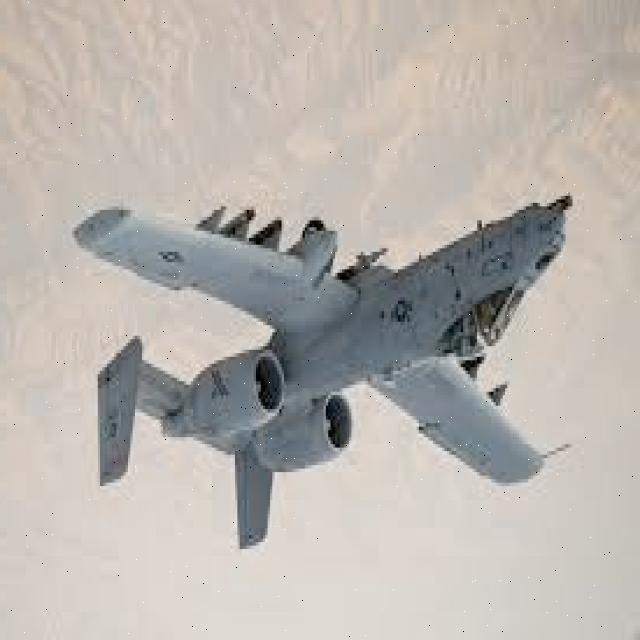A10: (42, 148, 582, 564)
